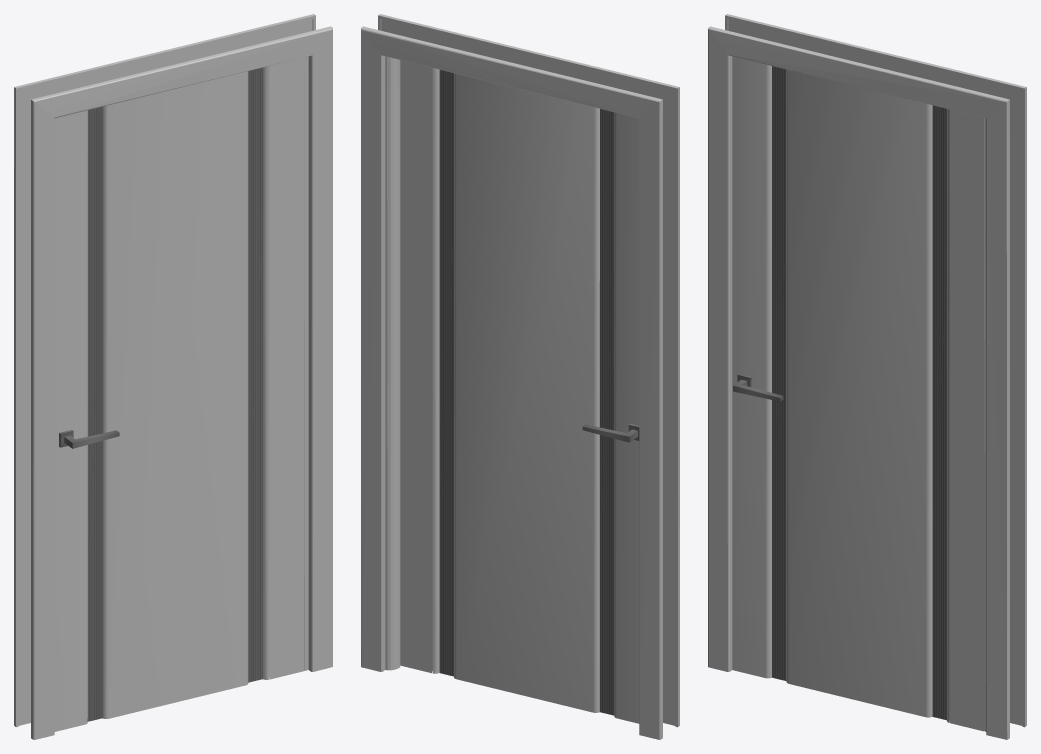
The model's file is Door.FBX.
The picture shows the model from 3 angles, left to right: view 1: azimuth 30°, elevation 25°; view 2: azimuth 150°, elevation 25°; view 3: azimuth 330°, elevation 25°; orthographic projection.
Parts seen in each view (by area): view 1: door, door frame; view 2: door, door frame; view 3: door, door frame.
Part boxes in pixels (x1=…): door: x1=54, y1=57, x2=303, y2=731; door frame: x1=14, y1=14, x2=332, y2=739; door: x1=400, y1=60, x2=639, y2=723; door frame: x1=361, y1=14, x2=679, y2=739; door: x1=732, y1=56, x2=984, y2=731; door frame: x1=708, y1=14, x2=1026, y2=739.
Bounding box in the file's own units: 107 × 218 × 16.62.
